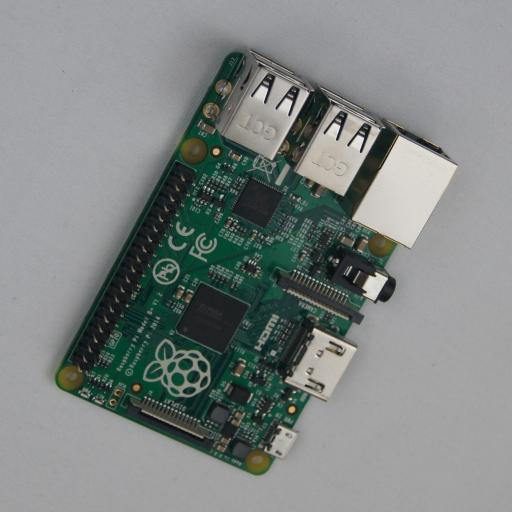Raspberry Pi 1 B-: (54, 46, 458, 475)
